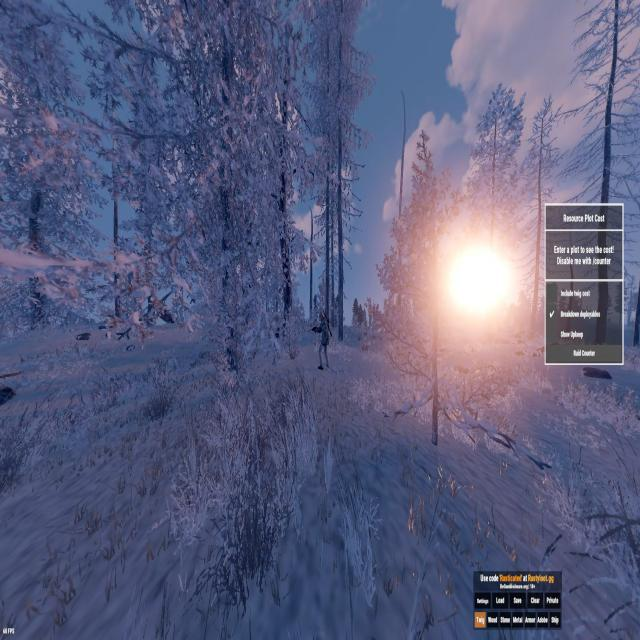Player: (315, 307, 332, 374)
